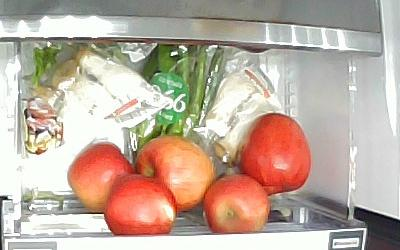apple: (135, 136, 215, 211), (239, 113, 312, 195), (66, 140, 134, 212), (107, 174, 176, 237), (206, 173, 269, 235)
